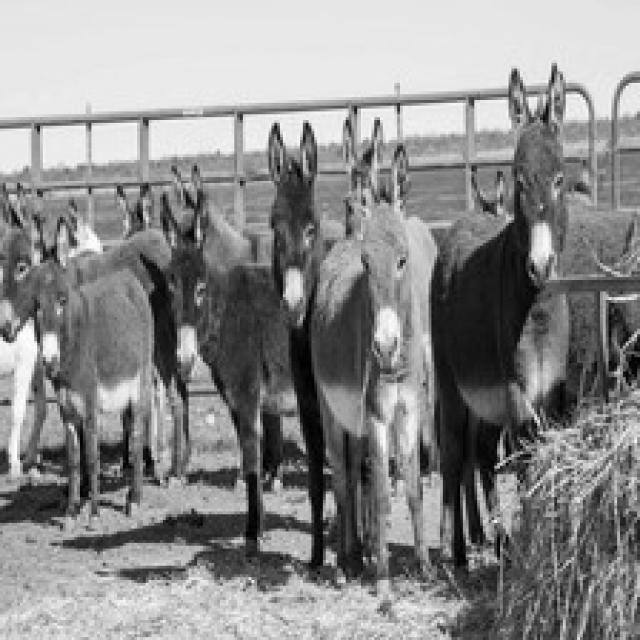Donkey: (426, 60, 568, 577), (309, 114, 440, 606), (169, 163, 297, 557), (9, 234, 157, 532), (469, 165, 637, 408), (263, 117, 340, 569), (0, 180, 103, 477), (112, 180, 188, 486), (560, 165, 637, 408), (0, 180, 49, 477), (115, 180, 152, 237)
